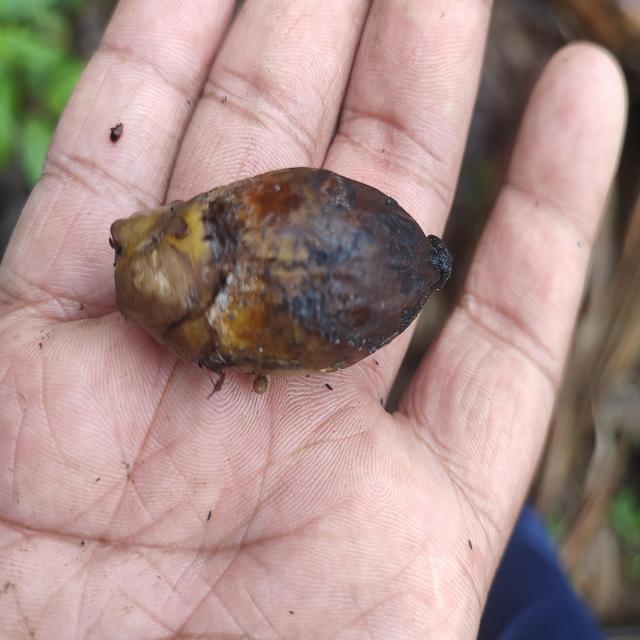damaged: (108, 167, 454, 384)
